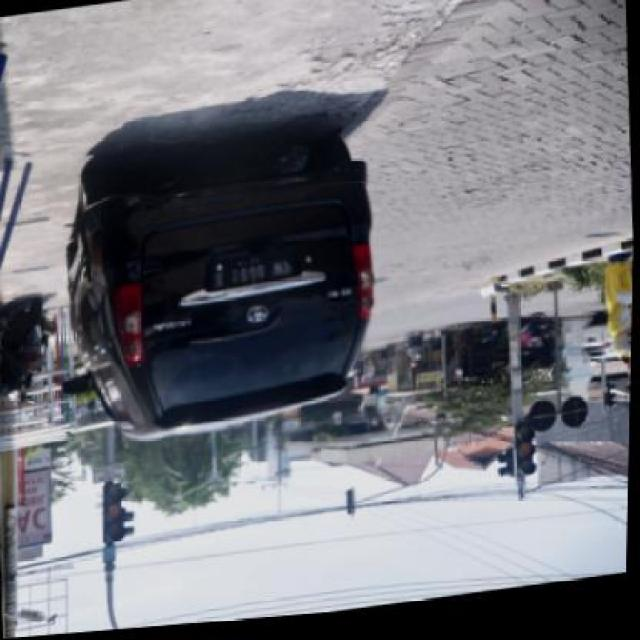yellow_light: (100, 483, 132, 548), (515, 428, 542, 488)
